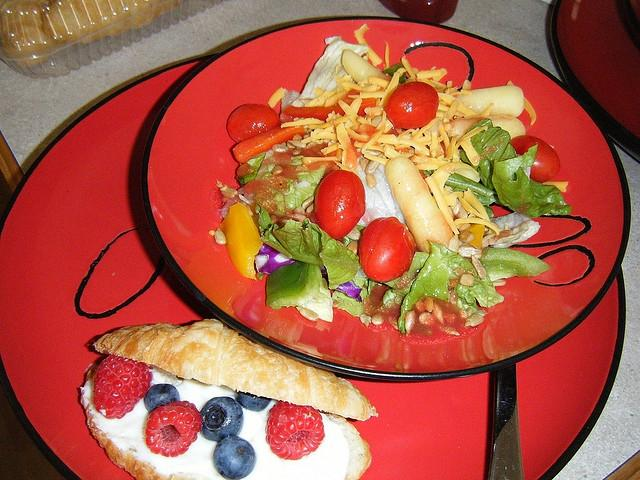bell pepper: (220, 202, 264, 282), (280, 90, 376, 123), (266, 260, 323, 311), (232, 126, 306, 163), (478, 248, 552, 282), (466, 222, 485, 248)
blueberry: (200, 396, 244, 442), (212, 436, 256, 480), (144, 384, 180, 412), (235, 390, 272, 412)
lettuce: (255, 203, 362, 290), (398, 239, 472, 334), (460, 118, 518, 188), (381, 252, 430, 309), (274, 178, 320, 216), (456, 275, 504, 308), (332, 287, 368, 318)
raspberry: (94, 354, 154, 420), (266, 400, 326, 460), (146, 401, 202, 458)
tomato: (358, 217, 416, 282), (314, 170, 366, 239), (386, 81, 440, 129), (510, 136, 561, 184), (227, 103, 281, 144)
